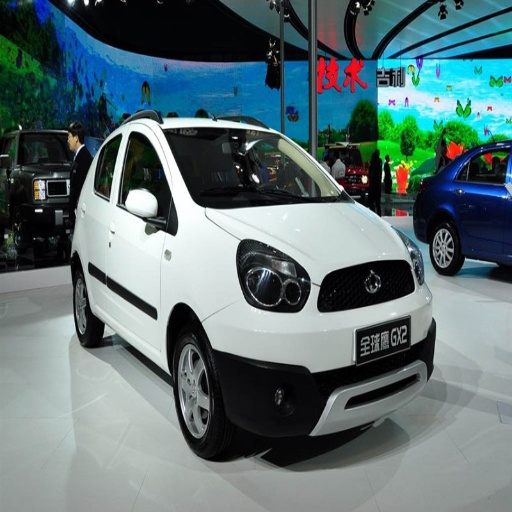front_bumper: (210, 261, 436, 439)
front_right_door: (114, 121, 170, 349)
front_right_light: (238, 244, 309, 309)
